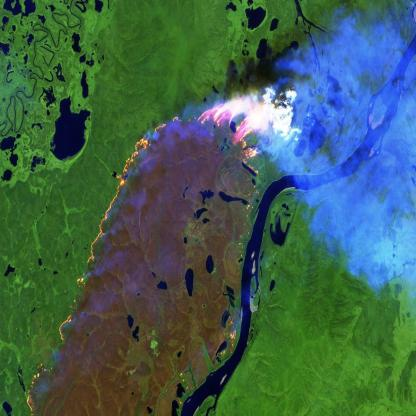fire: (15, 82, 300, 416)
